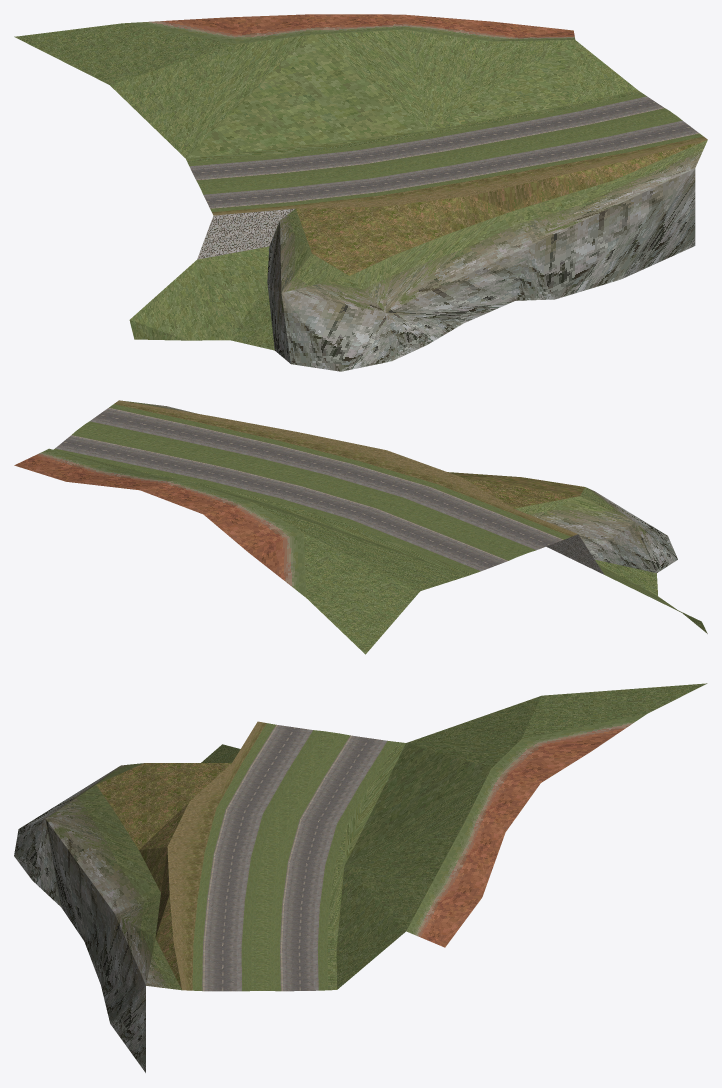
Rendered from lod_se_bit_20.obj.
3 views of the same model, one above another, from view 1: azimuth 30°, elevation 25°; view 2: azimuth 150°, elevation 25°; view 3: azimuth 270°, elevation 25° (orthographic). The views are drawn at different scales.
Visible parts, largest first — view 1: lod_se_bit_20; view 2: lod_se_bit_20; view 3: lod_se_bit_20.
Part boxes in pixels (x1,y1,x2,y2): lod_se_bit_20: [14, 14, 707, 371]; lod_se_bit_20: [14, 400, 707, 654]; lod_se_bit_20: [14, 683, 707, 1072].
Bounding box in the file's own units: 188 × 49.87 × 177.
9 materials, 9 textured.
